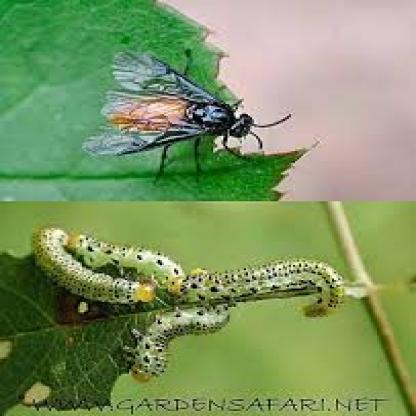sawfly: (82, 37, 301, 189), (170, 256, 351, 321), (25, 226, 162, 309), (115, 298, 232, 384), (66, 227, 194, 296)
